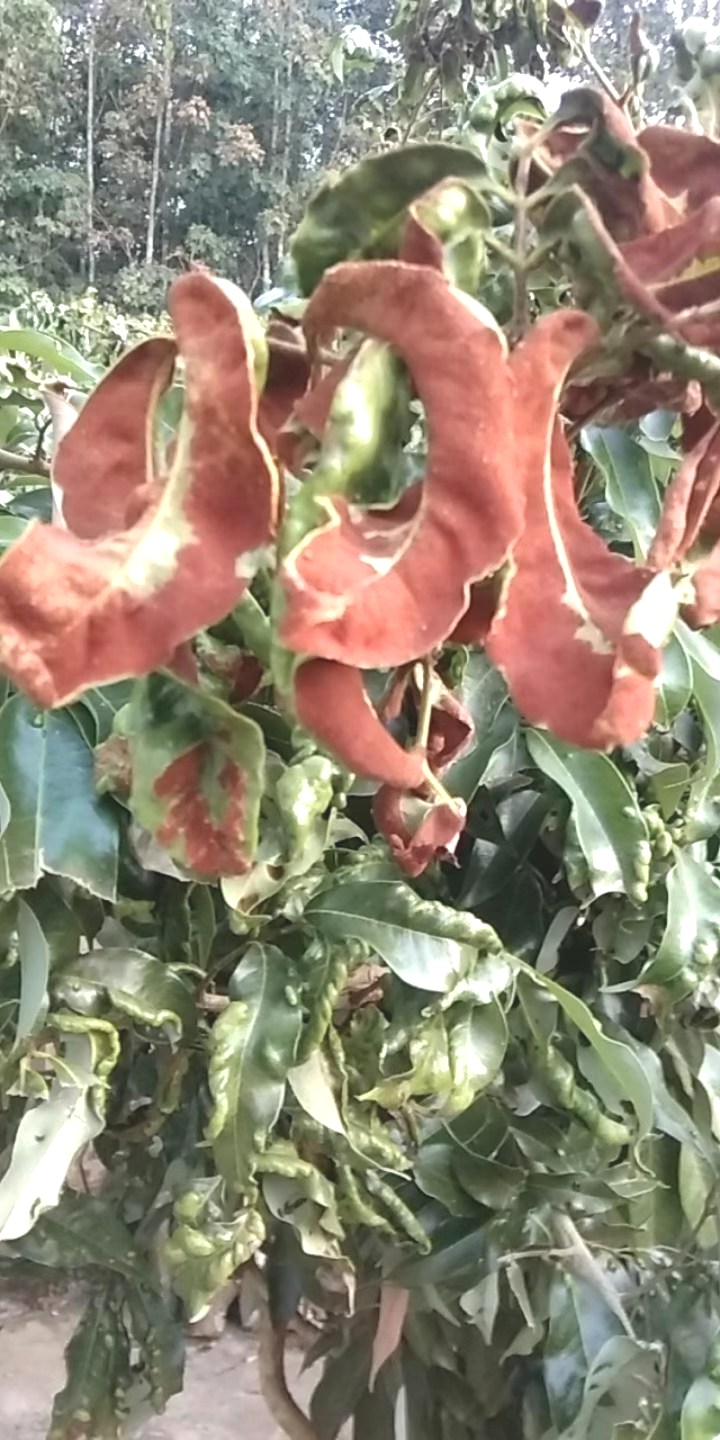Stink_Bug: (247, 561, 512, 927), (251, 1180, 470, 1338), (249, 186, 491, 268)
